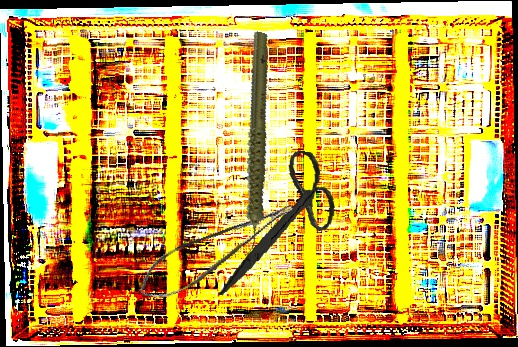Handpiece: (193, 30, 314, 258)
Iris Scissors: (217, 143, 342, 308)
Micro Scissor: (129, 198, 307, 308)
